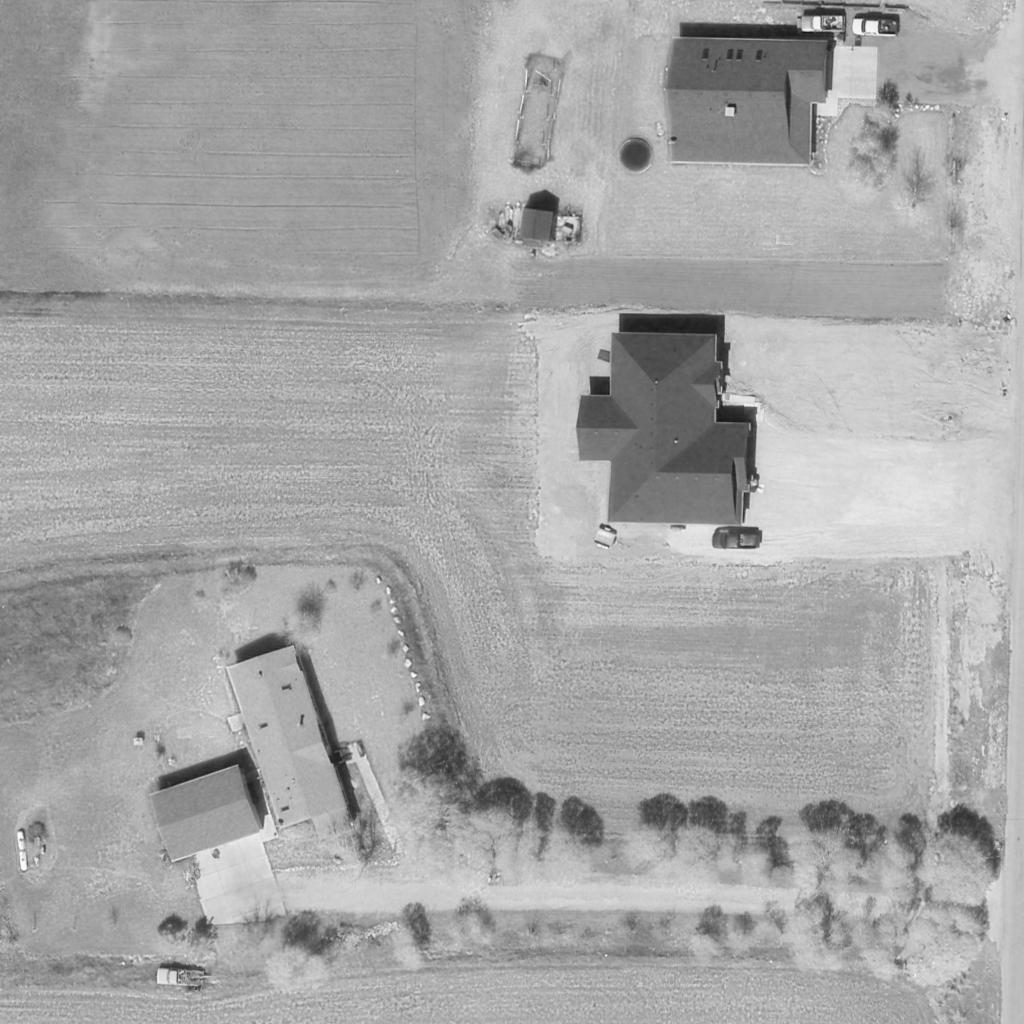vehicle: (708, 528, 764, 548), (801, 14, 845, 34), (156, 968, 204, 986), (851, 19, 899, 35)
